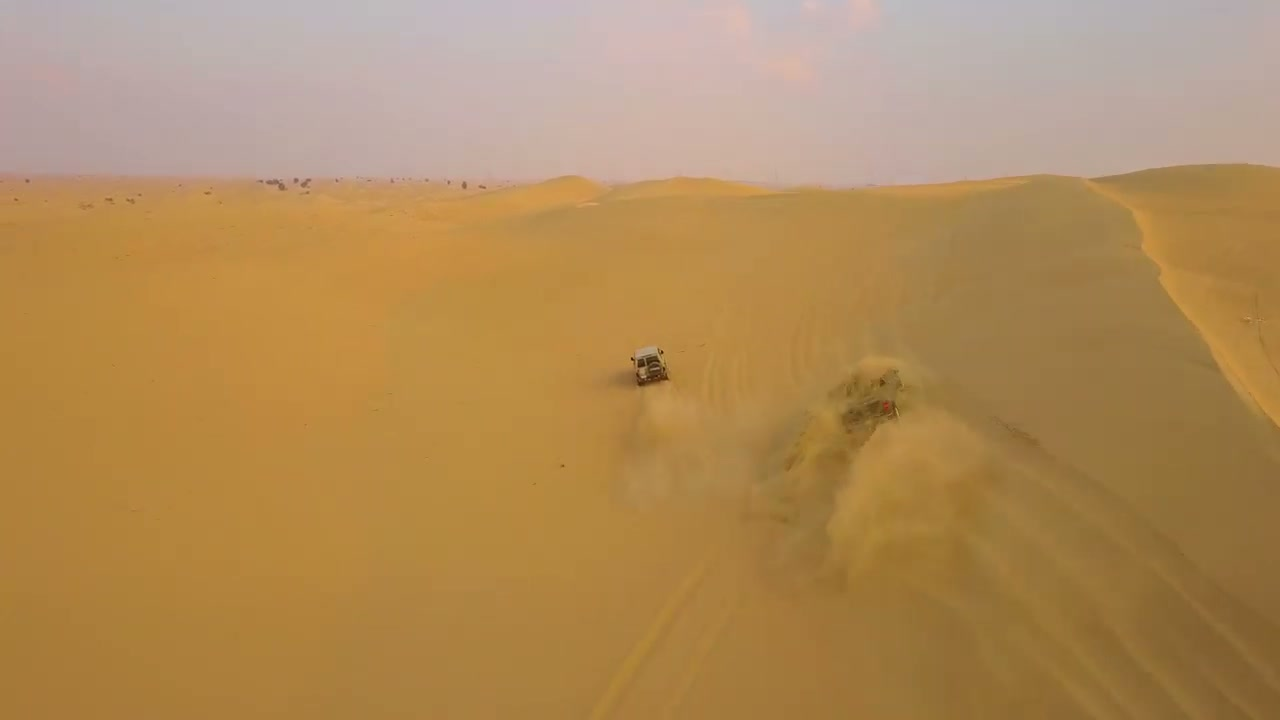vehicle_track: (882, 354, 1279, 719)
